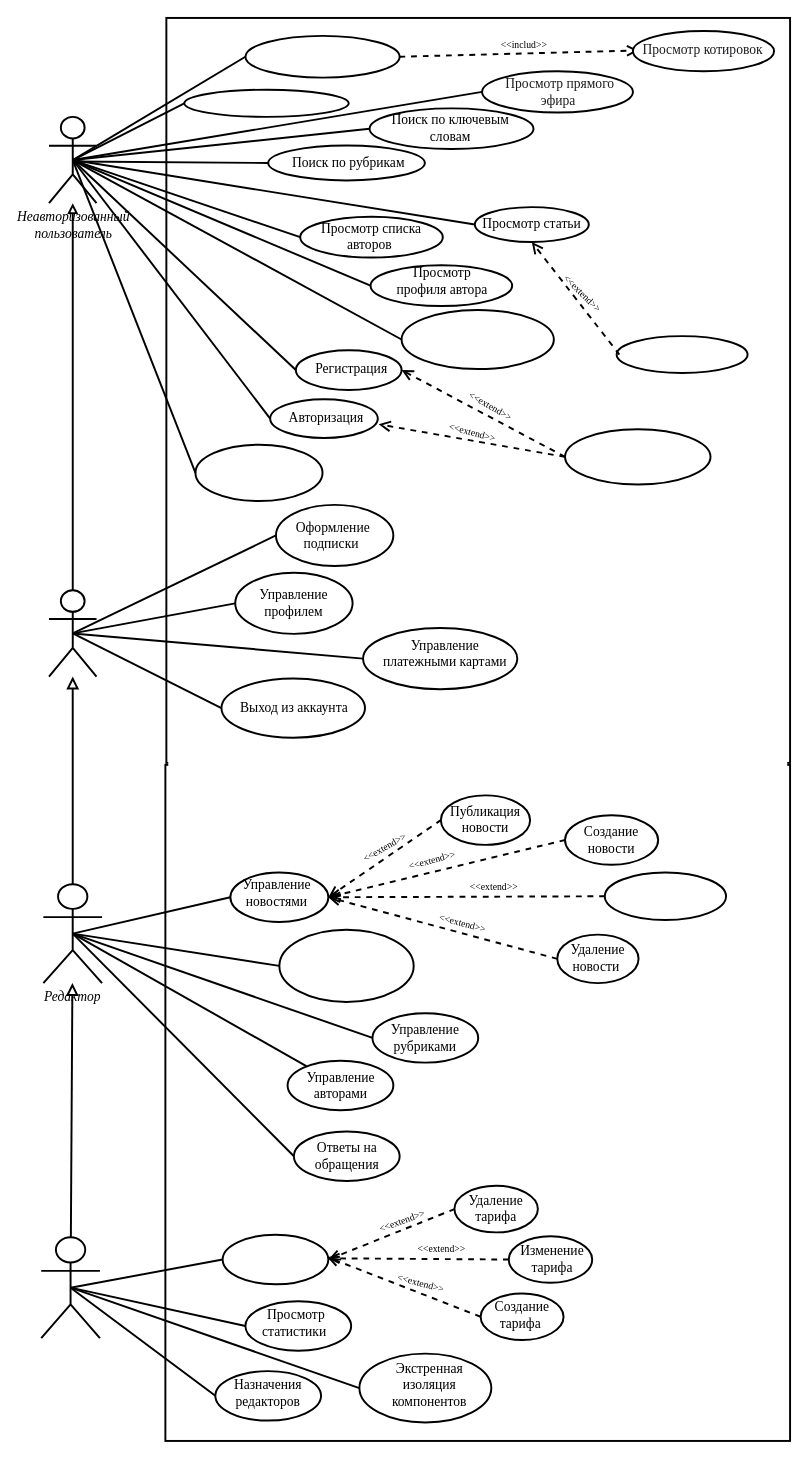
This 808x1458 diagram has some shape labels left out. The centre of each missing label's shape, as x and y in pixels:
"Авторизация через сторонние сервисы" belongs at point 637,456.
"Авторизованный пользователь" belongs at point 72,633.
"Администратор" belongs at point 70,1287.
"Обращение в службу поддержки" belongs at point 258,472.
"Поделится статьей" belongs at point 681,354.
"Прослушивание радио" belongs at point 266,102.
"Просмотр главной страницы" belongs at point 322,56.
"Просмотр информации о сайте" belongs at point 477,339.
"Редактирование новости" belongs at point 665,896.
"Управление справочной информацией" belongs at point 346,965.
"Управление тарифами" belongs at point 275,1259.
